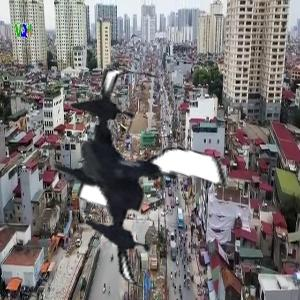drone: (27, 72, 237, 282)
